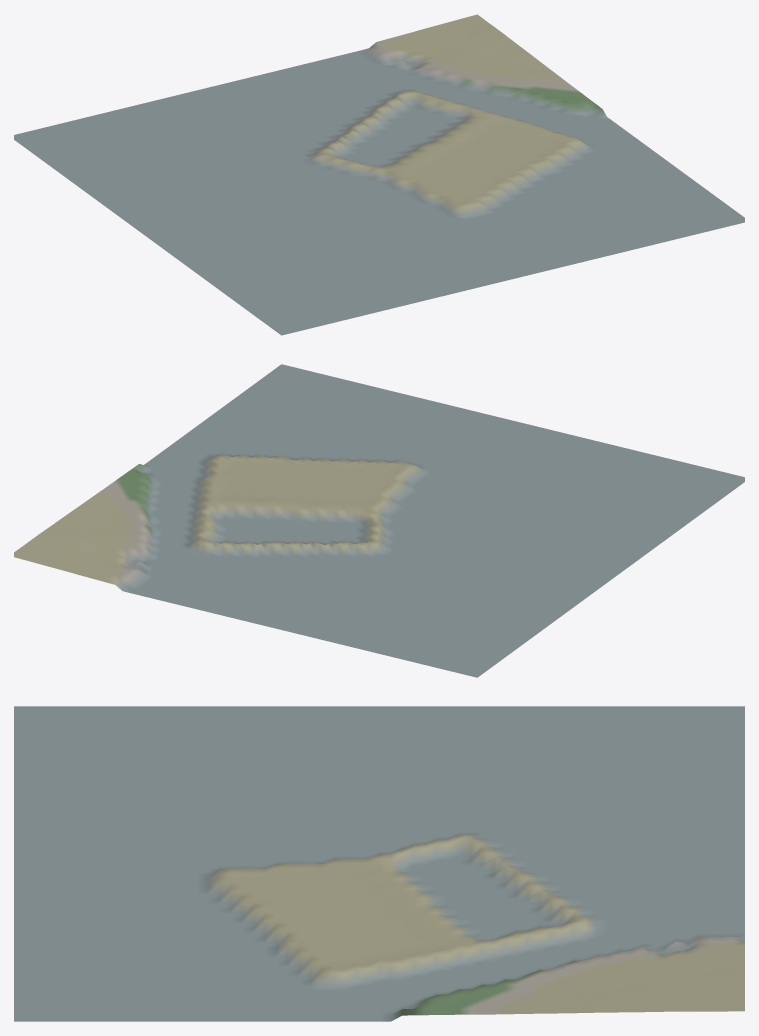
3 views of the same model, one above another, from view 1: azimuth 30°, elevation 25°; view 2: azimuth 150°, elevation 25°; view 3: azimuth 270°, elevation 25° (orthographic). The views are drawn at different scales.
Visible parts, largest first — view 1: prim0; view 2: prim0; view 3: prim0.
Part boxes in pixels (box(x1,y1,x2,y2)): prim0: box(14, 14, 744, 335); prim0: box(14, 364, 744, 677); prim0: box(14, 706, 744, 1021).
Bounding box in the file's own units: 512 × 12.96 × 512.
